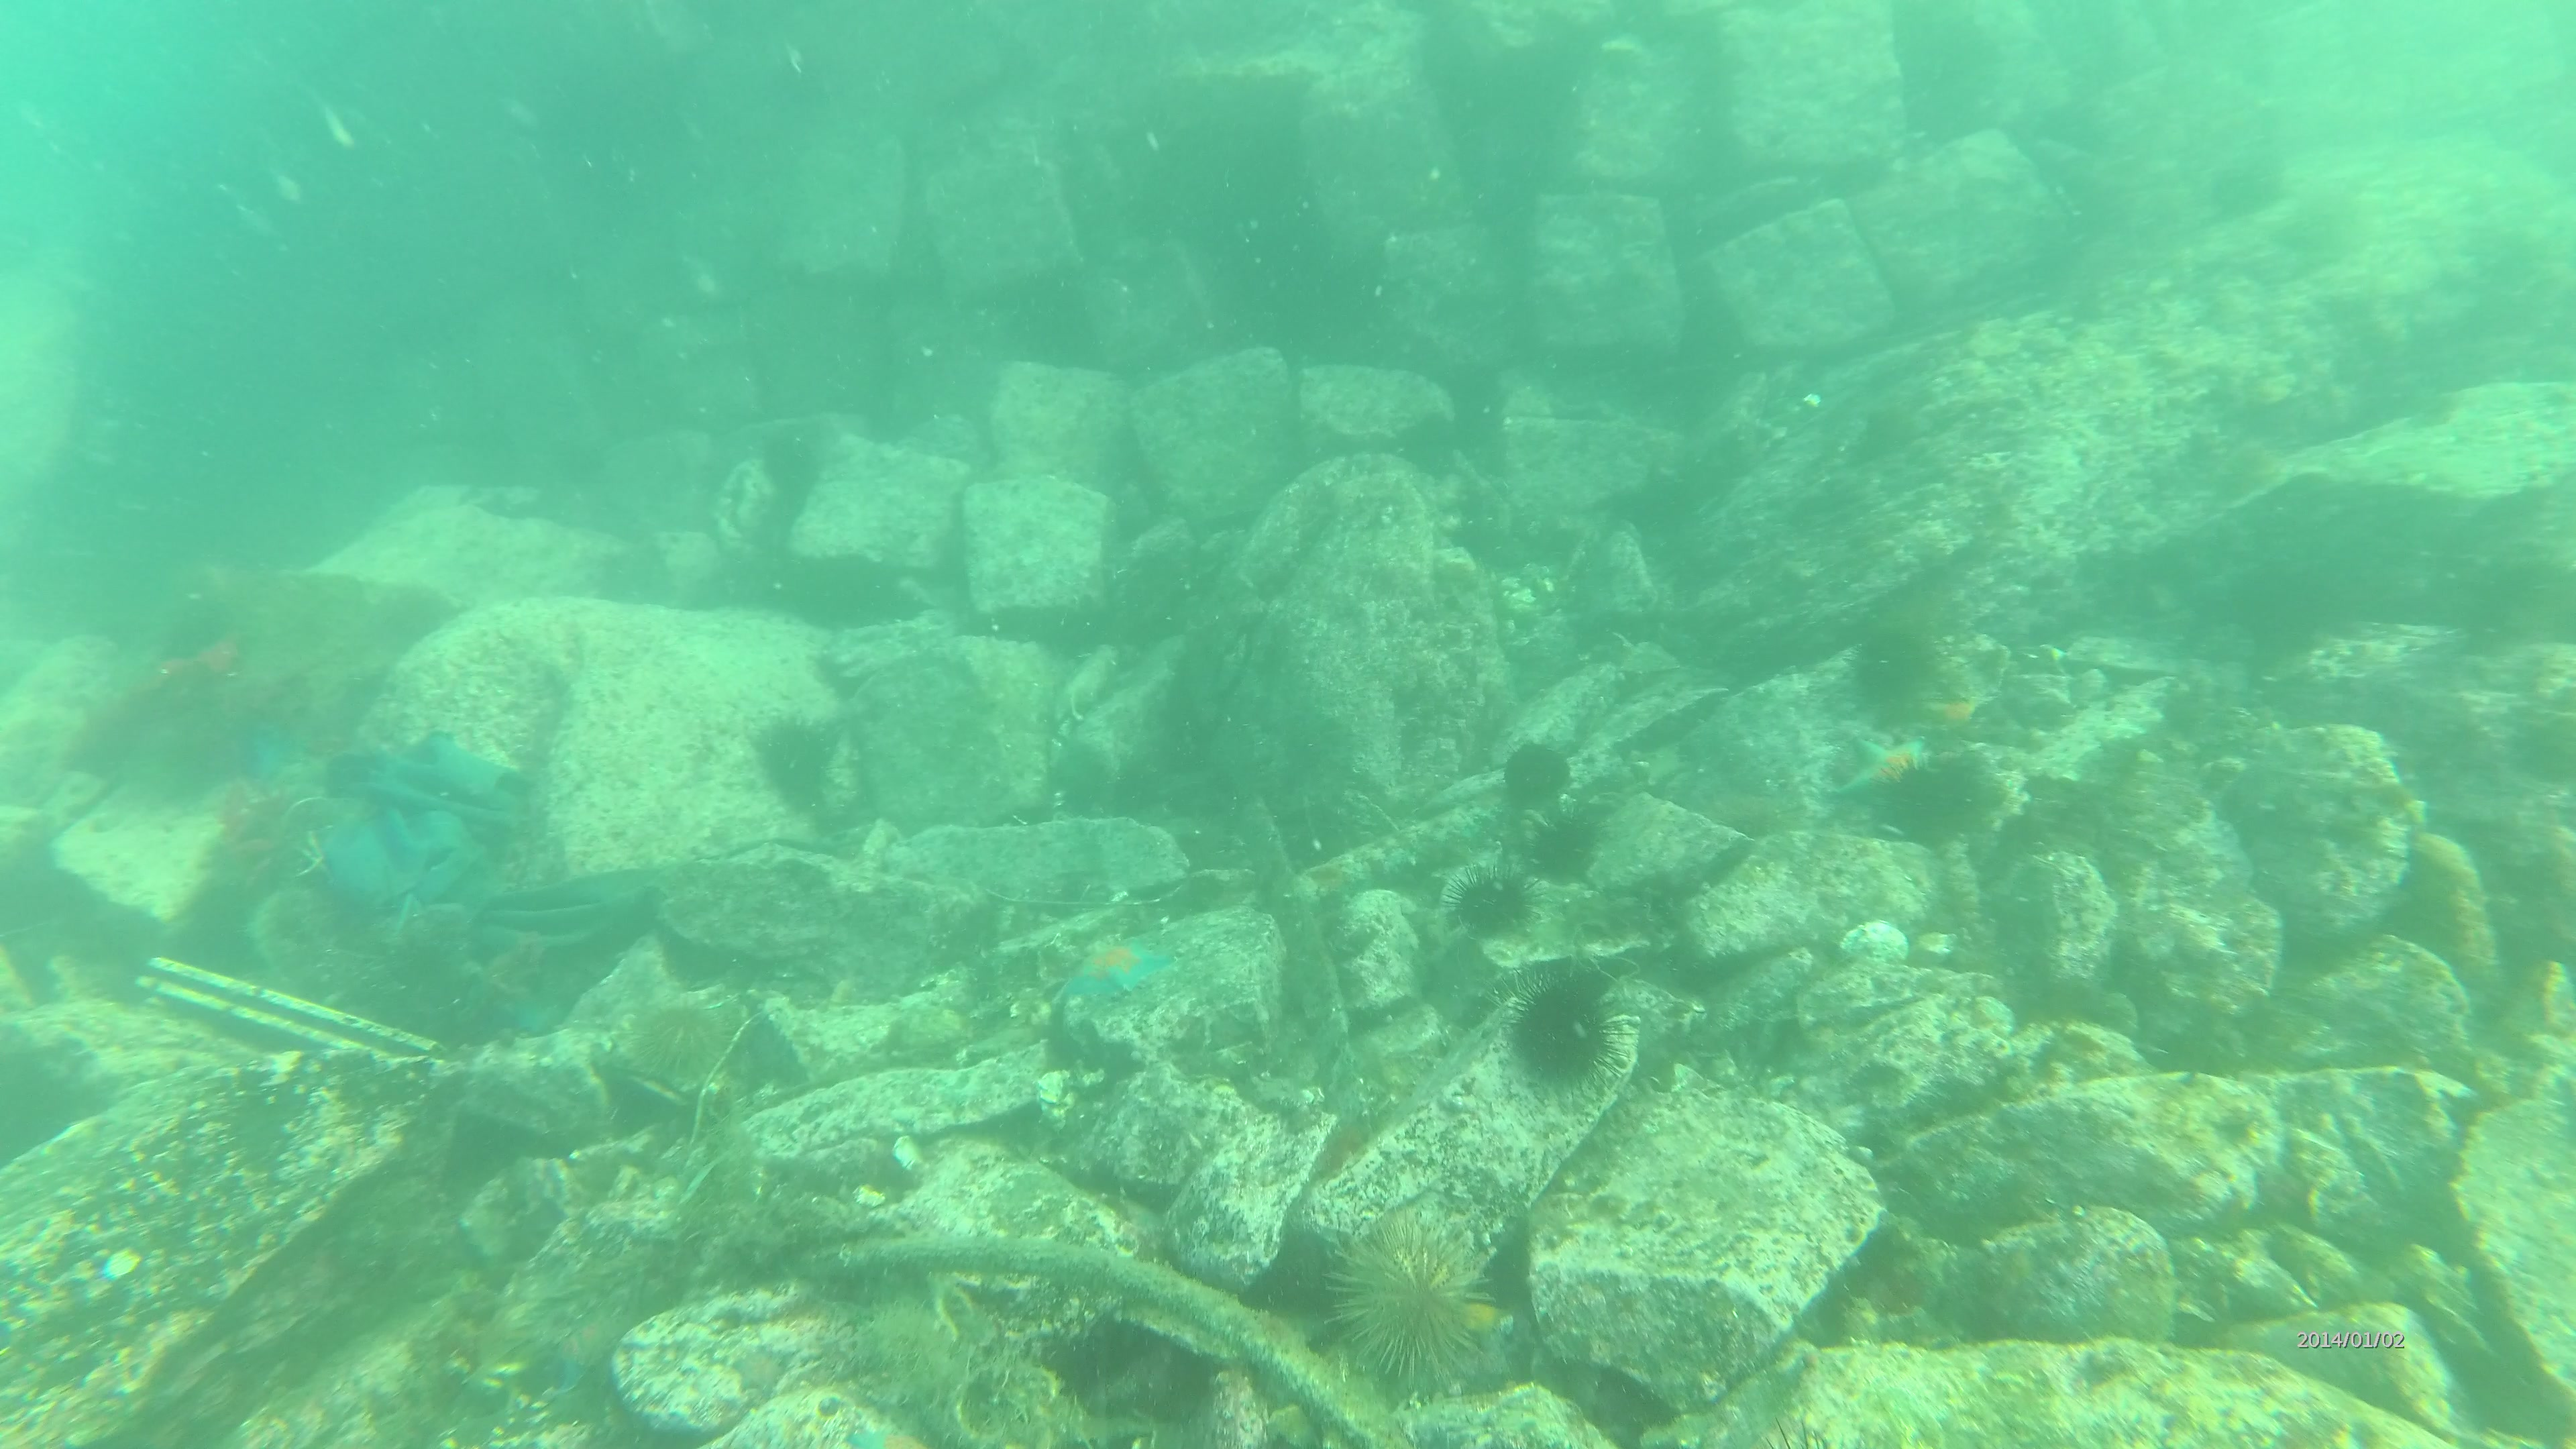echinus: (1307, 1217, 1488, 1380), (1506, 977, 1631, 1088), (633, 1000, 736, 1085), (1893, 755, 1997, 839), (1859, 614, 1944, 699), (1449, 862, 1532, 941), (1504, 732, 1578, 807), (1522, 814, 1599, 878)
scallop: (1836, 913, 1920, 970)
starfish: (1047, 934, 1178, 1008), (1835, 729, 1948, 801)
